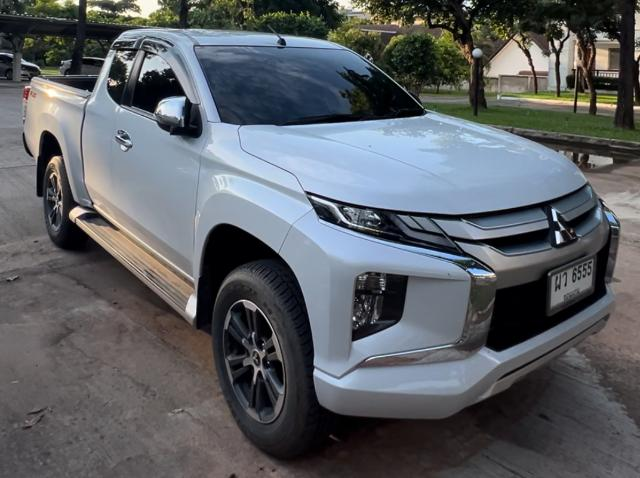pickup-truck: (20, 31, 622, 462)
